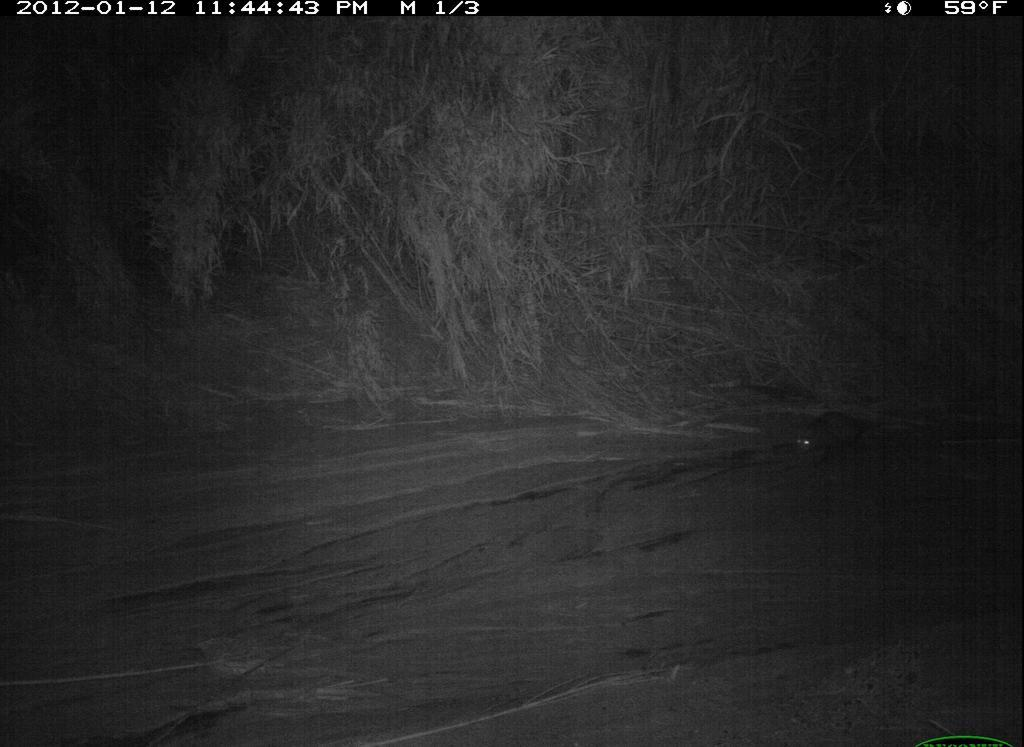opossum: (780, 401, 894, 472)
